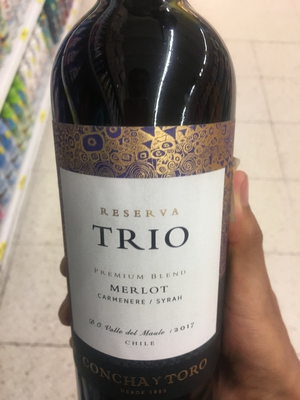trio merlot: (42, 23, 253, 396)
